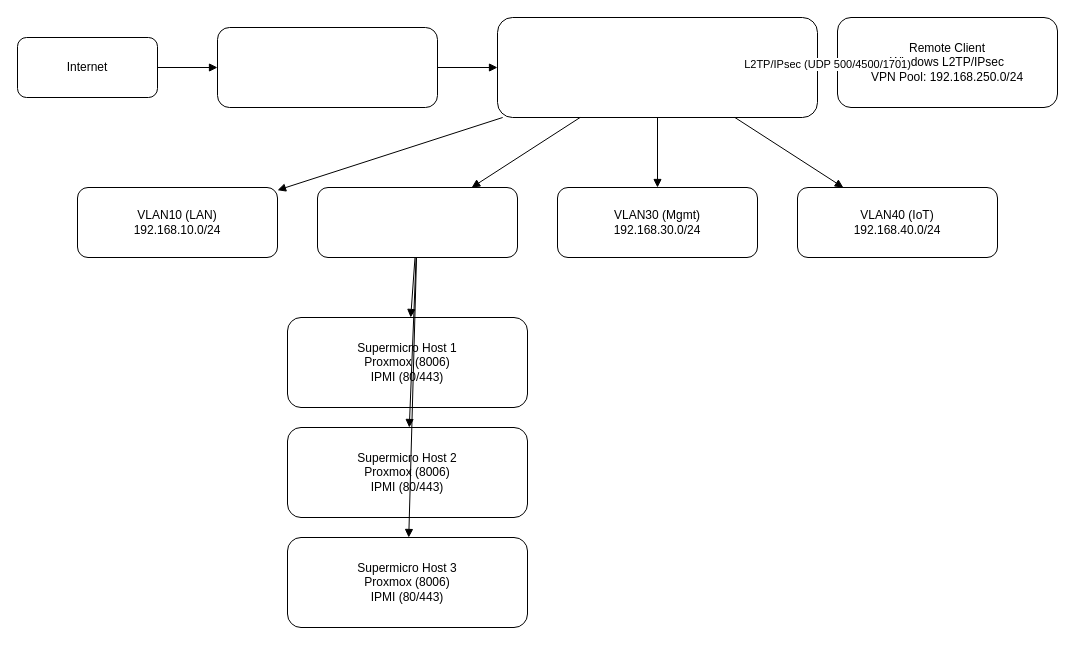
The diagram is 1075 pixels wide and 645 high, and some of its shapes have lost their labels. Each missing label, with the centre of its shape:
Eero Gateway LAN: 192.168.0.1/16 NAT + Wi‑Fi: (x=327, y=67)
MikroTik CRS326-24G-2S+ RouterOS 6.49.x Uplink (VLAN50 SVI): 192.168.0.254/16: (x=657, y=67)
VLAN20 (Servers) 192.168.20.0/24: (x=417, y=222)
